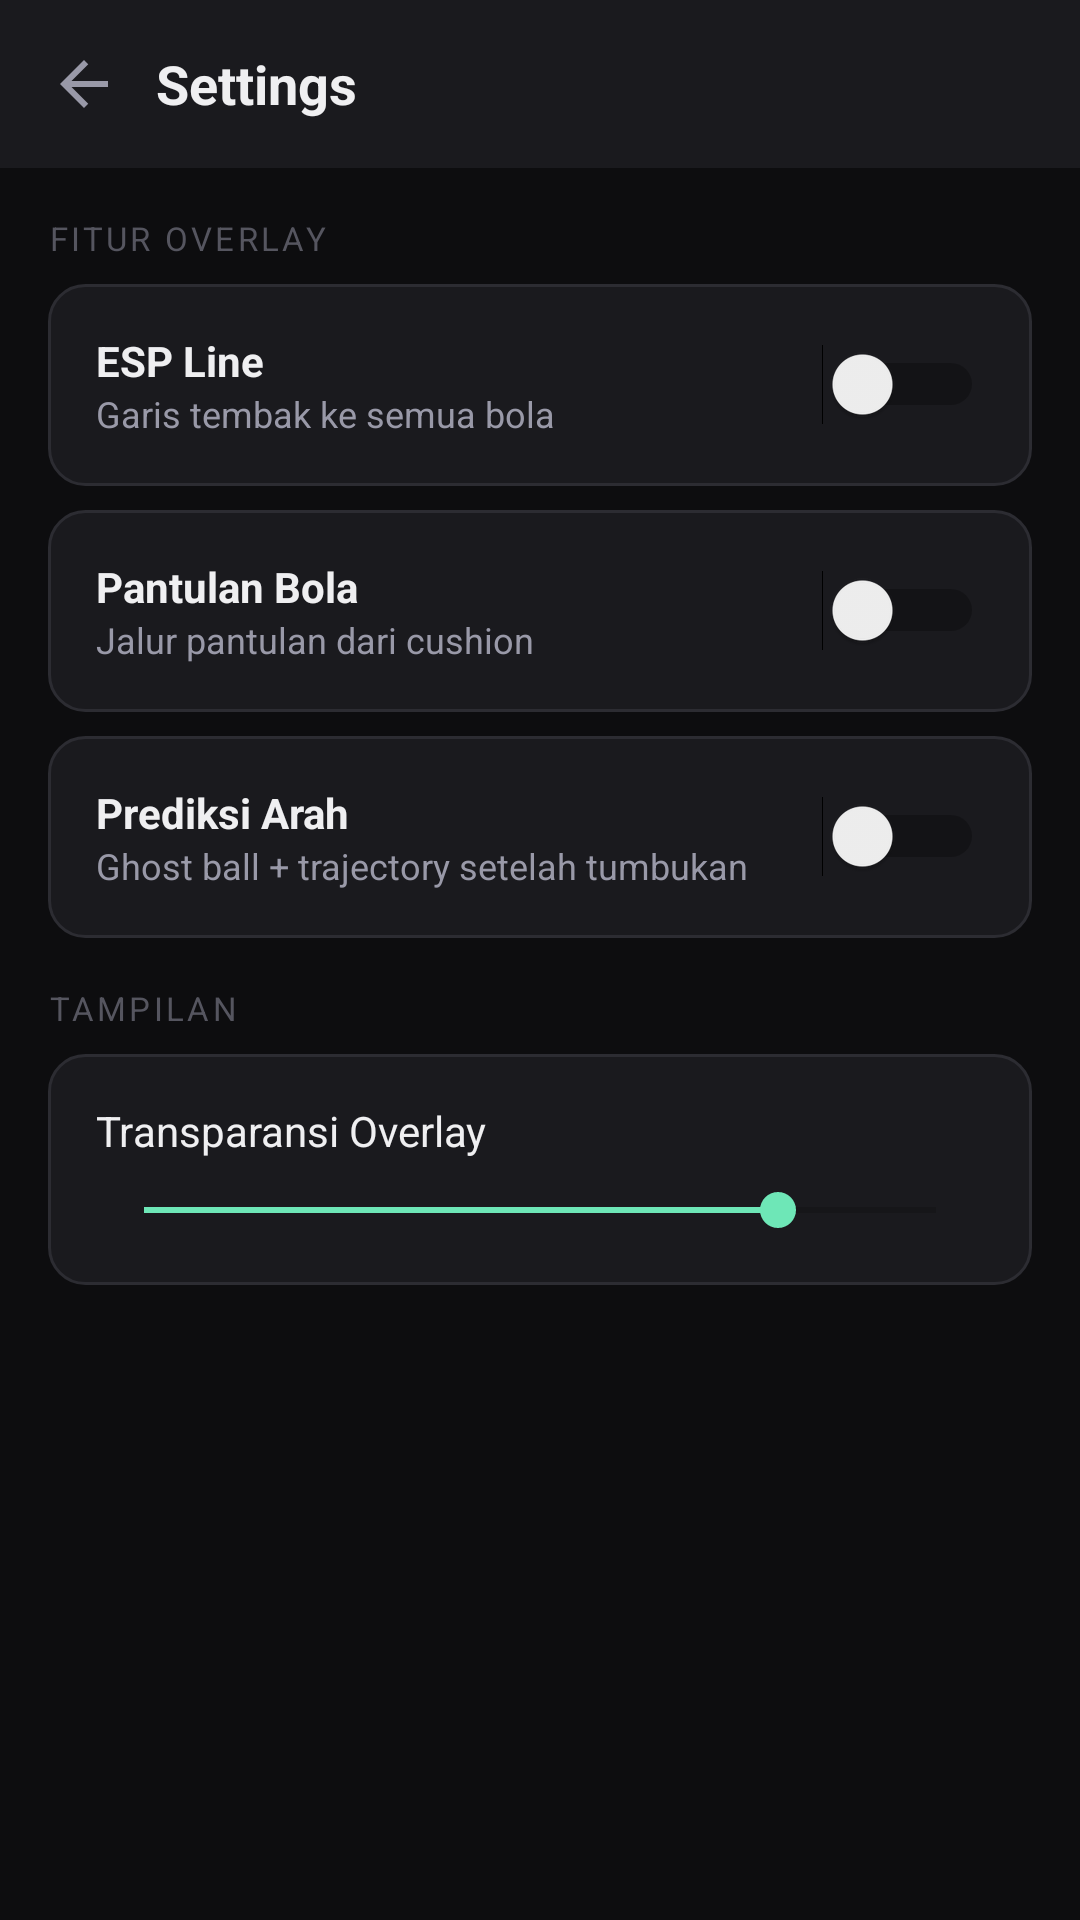

Where icons sit on this 1080px x 1920px app screen, as (x1, y1, x2, y2):
back: (60, 60, 108, 108)
